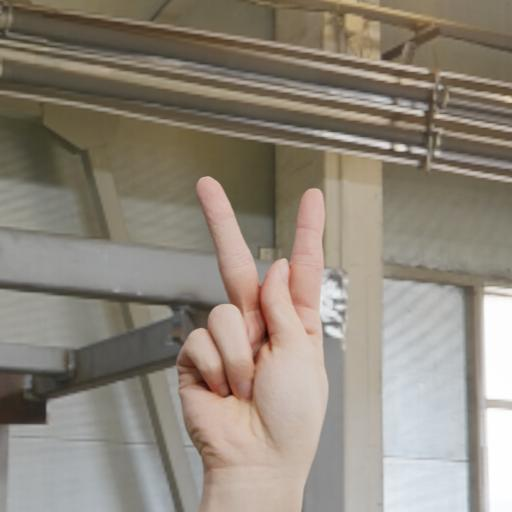K: (148, 158, 340, 482)
